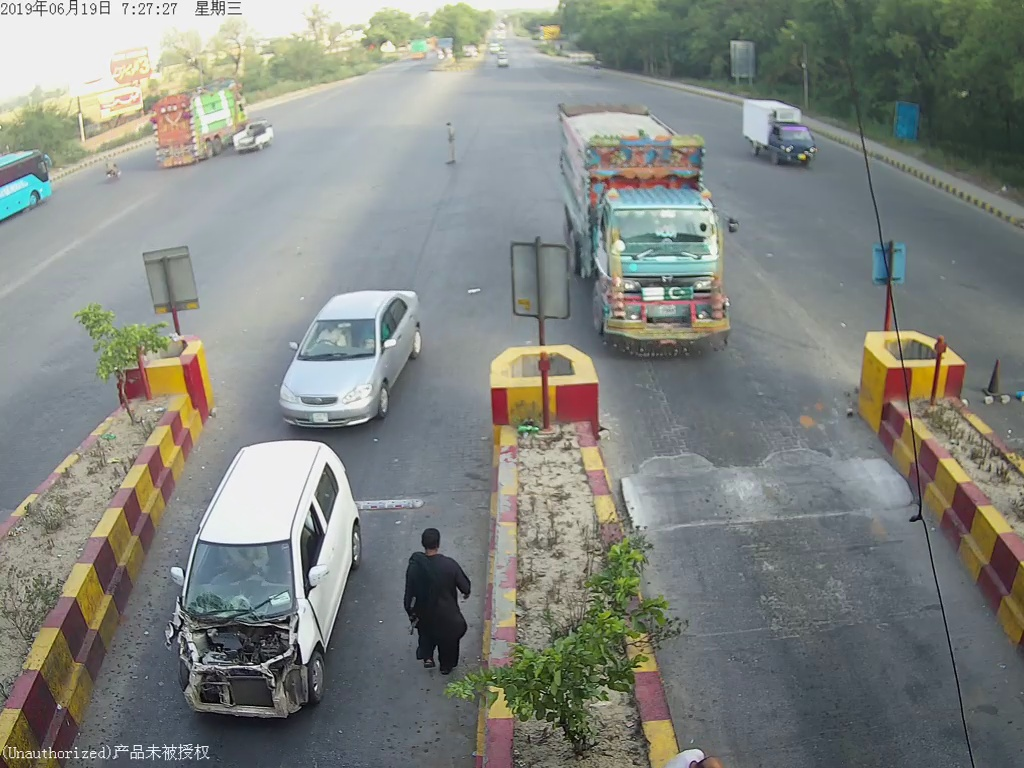Cat-1: (177, 438, 371, 733), (281, 288, 429, 428)
Cat-4: (562, 74, 752, 355)
